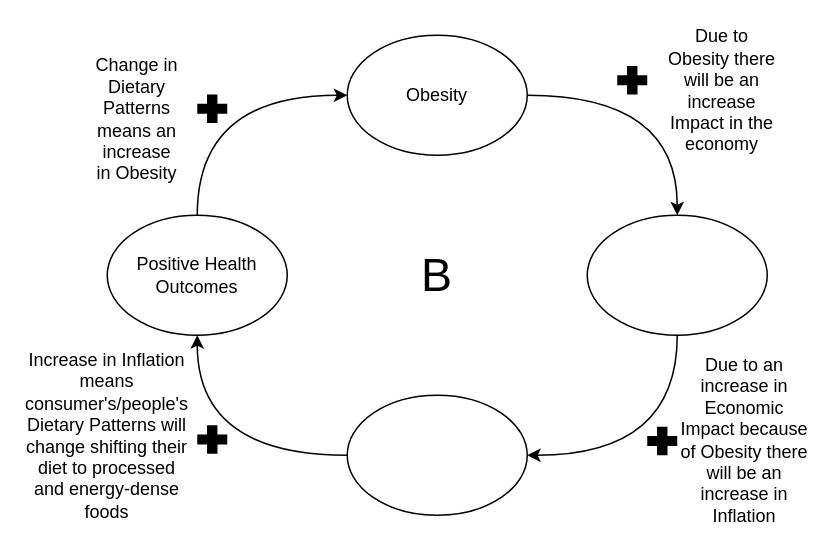
Image size: 839x552. Some labels were removed from this diagram. The shapes that lost their labels are listed below. From the top down, each one's centre as x and y in pixels, then its label:
[676,274]: Awareness and Education
[436,454]: Behavioral Changes
